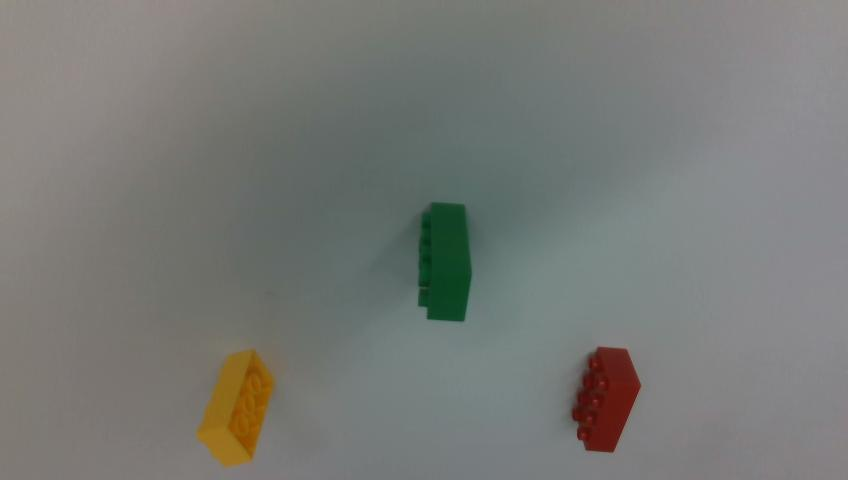4x2_green: (418, 203, 471, 321)
4x2_red: (571, 347, 640, 452)
4x2_yellow: (197, 350, 274, 465)
